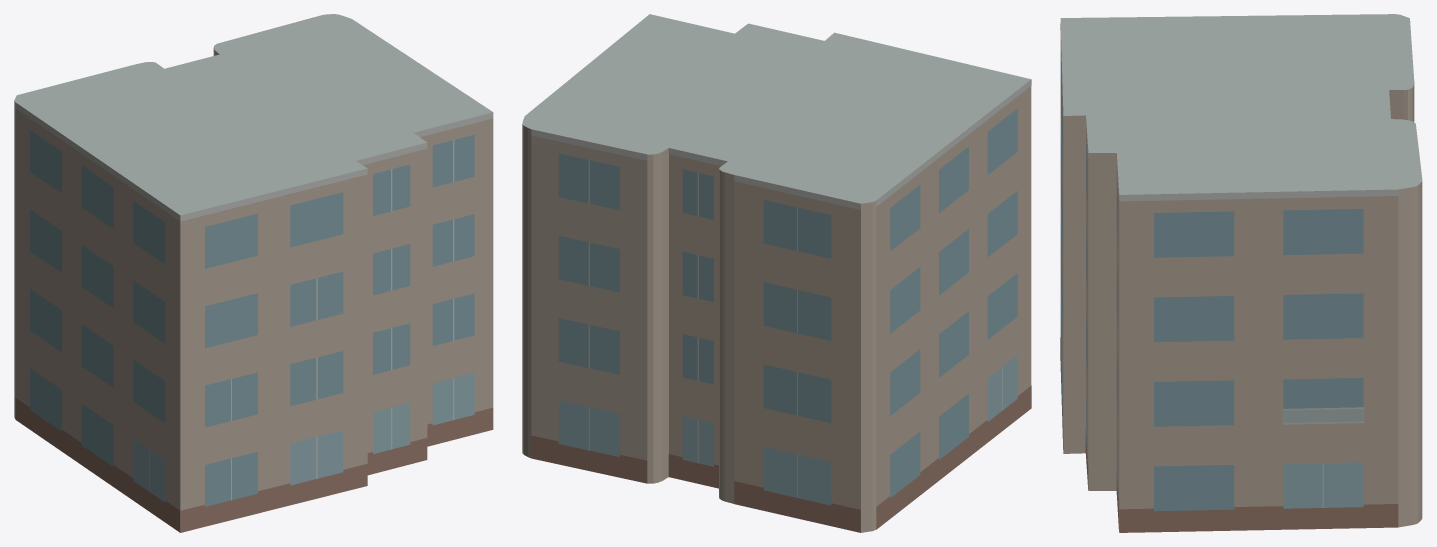
File: survey-upis-32954359.glb
3 views of the same model, side by side, from view 1: azimuth 30°, elevation 25°; view 2: azimuth 150°, elevation 25°; view 3: azimuth 270°, elevation 25° (orthographic). The views are drawn at different scales.
Visible parts, largest first — view 1: survey-upis-32954359.tmp; view 2: survey-upis-32954359.tmp; view 3: survey-upis-32954359.tmp.
Boxes of the visible parts, x1,y1,x2,y2 form: survey-upis-32954359.tmp: [14, 14, 493, 532]; survey-upis-32954359.tmp: [522, 14, 1031, 532]; survey-upis-32954359.tmp: [1060, 14, 1422, 532].
Bounding box in the file's own units: 14.71 × 12.8 × 12.44.
